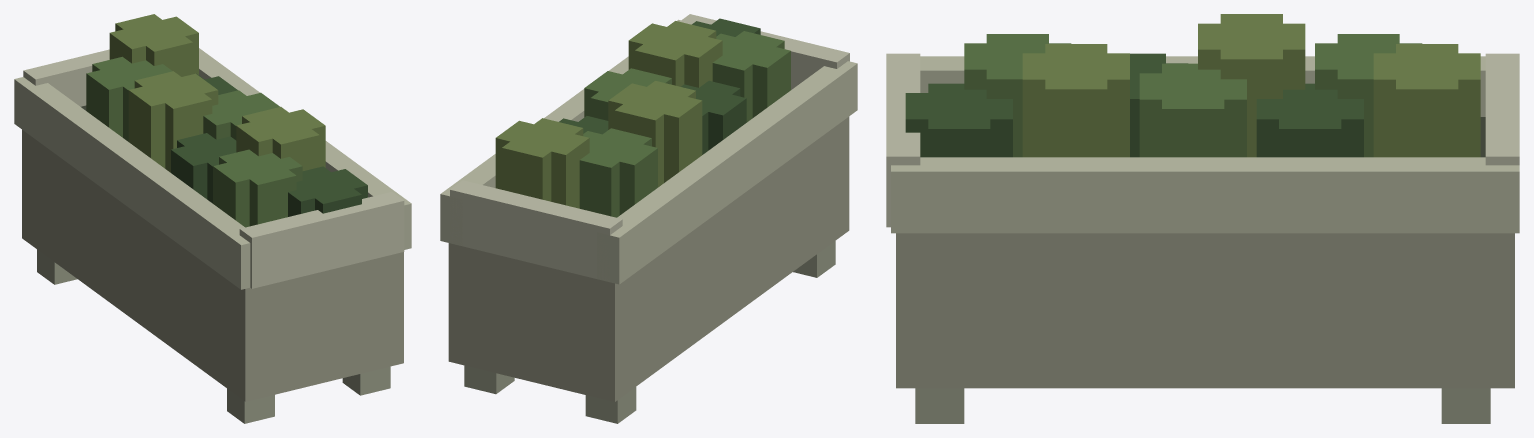
Rendered from CMU3DConcretePlanter.glb.
3 views of the same model, side by side, from view 1: azimuth 30°, elevation 25°; view 2: azimuth 150°, elevation 25°; view 3: azimuth 270°, elevation 25° (orthographic). The views are drawn at different scales.
Visible parts, largest first — view 1: planter trough, clustered low foliage (×20), sculpted long side rim (×2), sculpted end rim (×2), planter foot (×3); view 2: planter trough, clustered low foliage (×19), sculpted long side rim (×2), sculpted end rim (×2), planter foot (×3); view 3: planter trough, clustered low foliage (×22), sculpted long side rim (×2), sculpted end rim (×2), planter foot (×2).
Boxes of the visible parts, x1,y1,x2,y2 form: planter trough: (22,130,403,401); clustered low foliage (×20): (86,14,367,227); sculpted long side rim (×2): (14,48,411,289); sculpted end rim (×2): (23,49,404,288); planter foot (×3): (37,249,390,423); planter trough: (448,116,849,401); clustered low foliage (×19): (495,18,790,217); sculpted long side rim (×2): (440,19,857,284); sculpted end rim (×2): (450,14,849,281); planter foot (×3): (464,241,835,423); planter trough: (896,233,1514,388); clustered low foliage (×22): (905,14,1480,157); sculpted long side rim (×2): (891,56,1519,233); sculpted end rim (×2): (886,53,1519,227); planter foot (×2): (915,388,1490,423).
Size of the model in its own units: 0.56 by 0.73 by 1.3.
